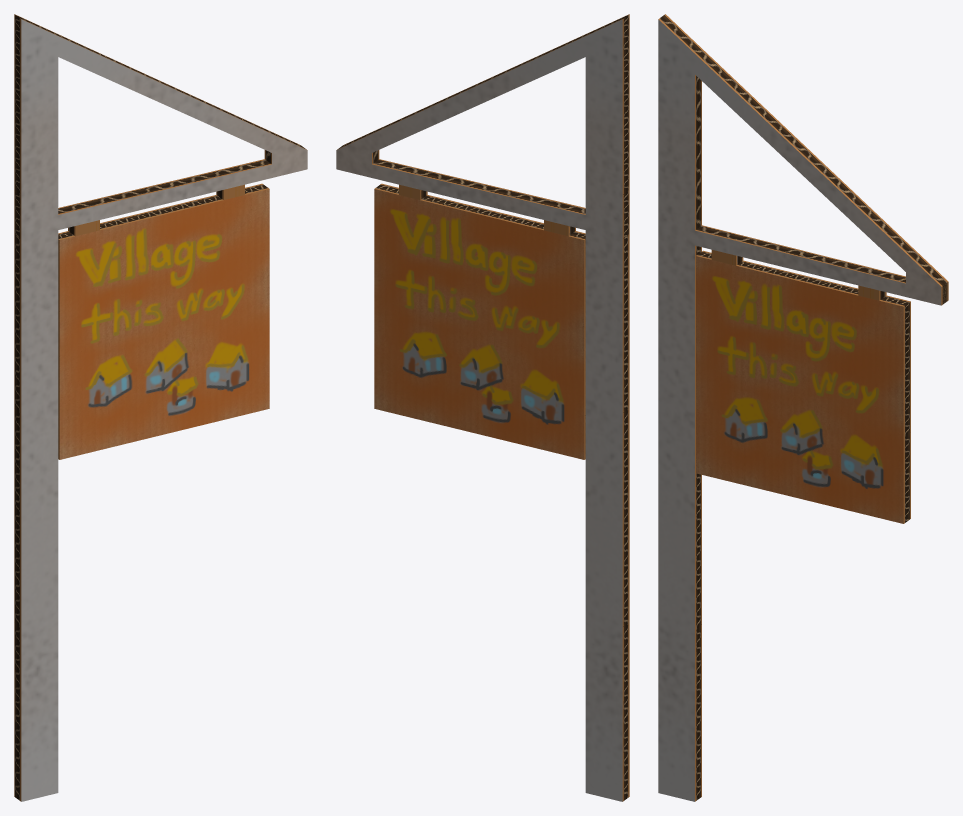
The model's file is VillageStandingSign.fbx.
3 renders of one model, left to right at view 1: azimuth 30°, elevation 25°; view 2: azimuth 150°, elevation 25°; view 3: azimuth 330°, elevation 25°, orthographic.
Parts seen in each view (by area): view 1: pCube15, pCube14; view 2: pCube15, pCube14; view 3: pCube15, pCube14.
Boxes of the visible parts, x1,y1,x2,y2 form: pCube15: (58, 183, 269, 459); pCube14: (14, 14, 307, 801); pCube15: (374, 183, 585, 459); pCube14: (336, 14, 629, 801); pCube15: (696, 250, 910, 523); pCube14: (658, 14, 948, 801).
Bounding box in the file's own units: 1.05 × 2.74 × 0.0461.
